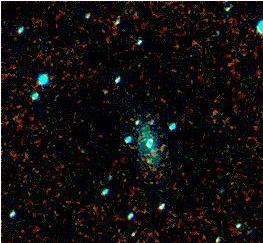star: (130, 148, 160, 178)
